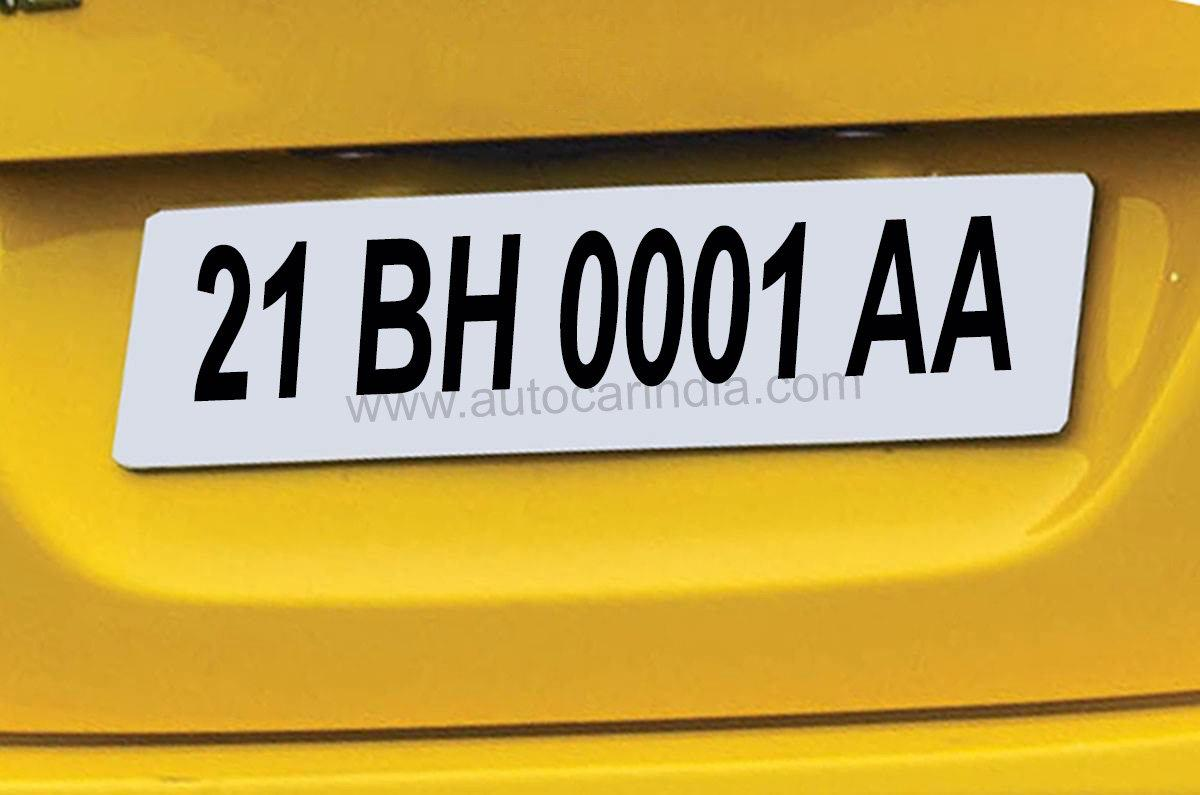Liscence Plate: (146, 206, 1048, 418)
